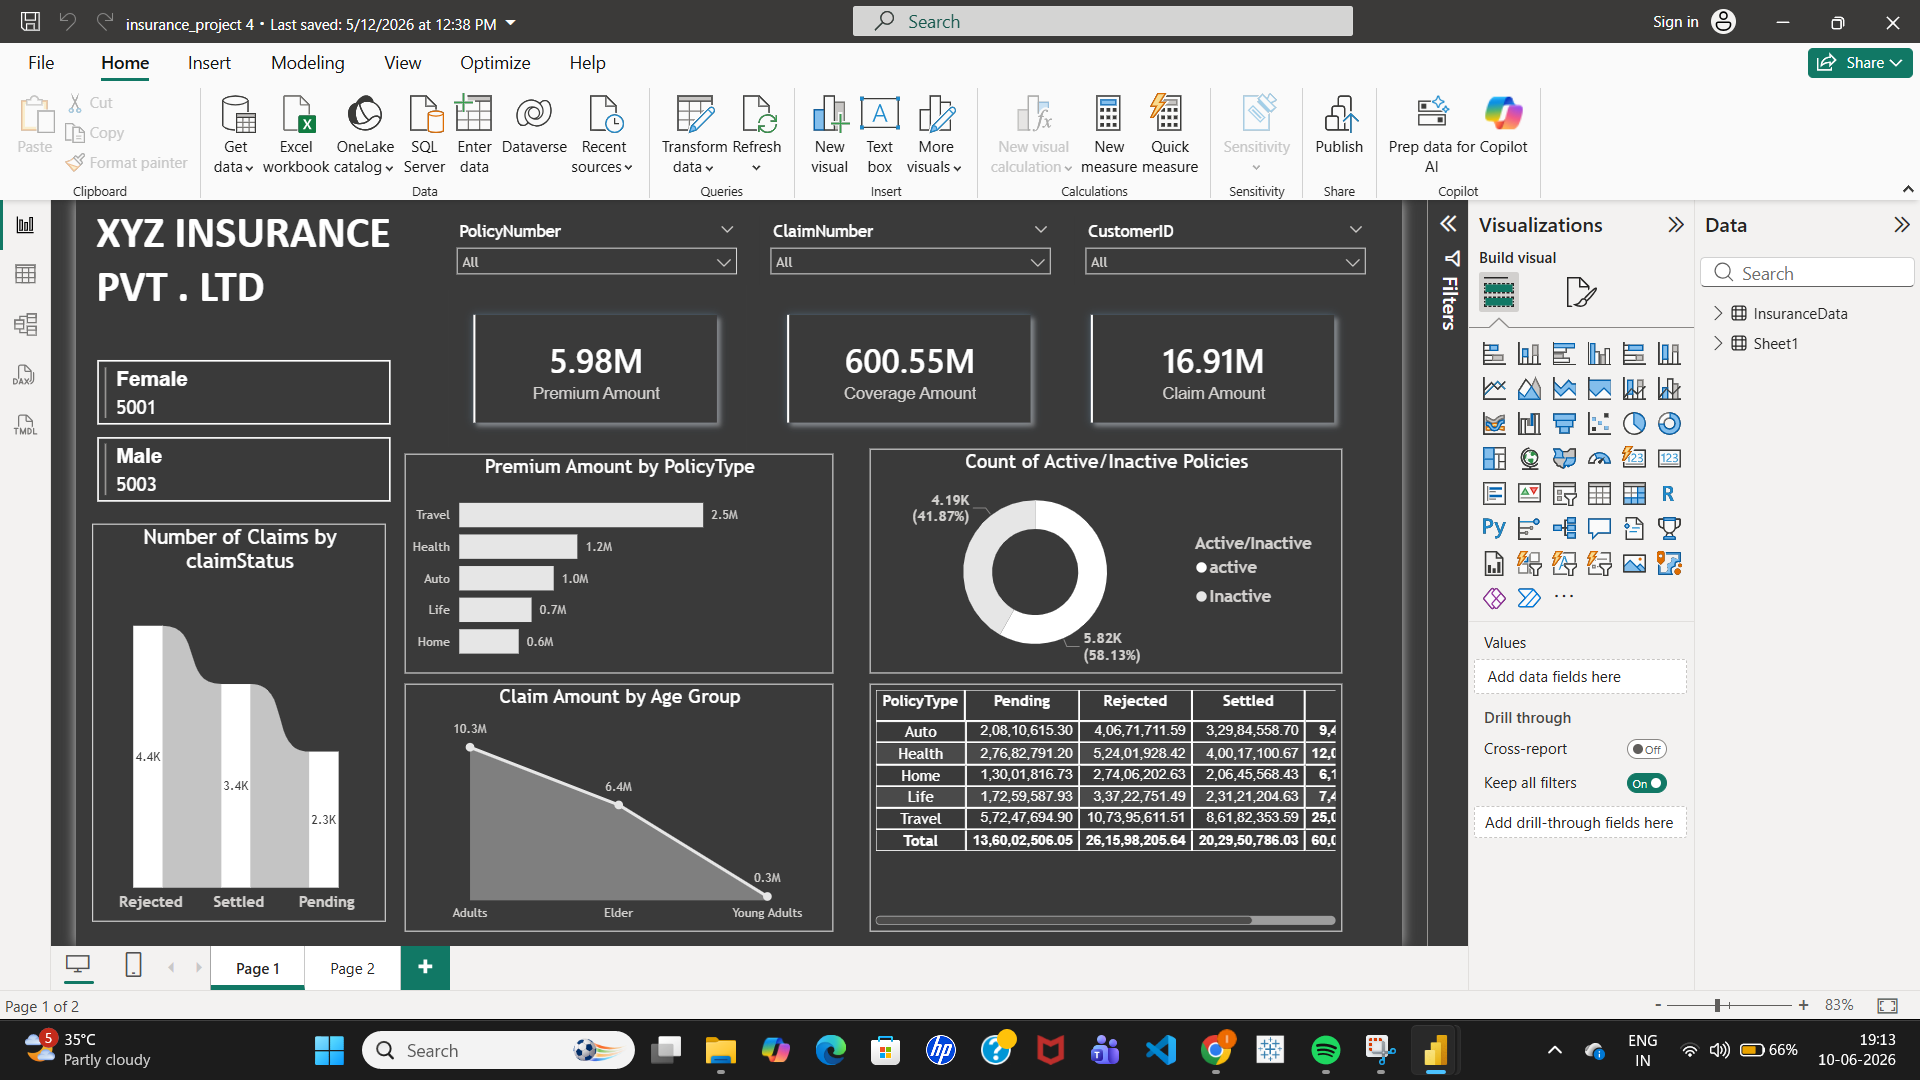

The dashboard page shown, as its layout file describes it:
{"tool":"powerbi","page":{"name":"Page 1","canvas":[1280,720],"ordinal":0},"visuals":[{"type":"slicer","fields":{"Values":["InsuranceData.PolicyNumber"]},"box":[357.1,15.7,290.8,84.5],"z":0},{"type":"slicer","fields":{"Values":["InsuranceData.ClaimNumber"]},"box":[659.9,15.7,290.8,84.5],"z":1000},{"type":"slicer","fields":{"Values":["InsuranceData.CustomerID"]},"box":[963.9,15.7,290.8,84.5],"z":2000},{"type":"textbox","box":[14.5,0,294.4,162.9],"z":3000},{"type":"cardVisual","fields":{"Data":["Sum(InsuranceData.PremiumAmount)"]},"box":[354.7,82,293.2,162.9],"z":4000},{"type":"cardVisual","fields":{"Data":["Sum(InsuranceData.CoverageAmount)"]},"box":[657.5,82,293.2,162.9],"z":5000},{"type":"cardVisual","fields":{"Data":["Sum(InsuranceData.ClaimAmount)"]},"box":[950.7,82,293.2,162.9],"z":6000},{"type":"multiRowCard","fields":{"Values":["InsuranceData.Gender","CountNonNull(InsuranceData.Gender)"]},"box":[15.7,149.6,293.2,162.9],"z":7000},{"type":"ribbonChart","title":"Number of Claims by claimStatus ","fields":{"Category":["InsuranceData.ClaimStatus"],"Y":["CountNonNull(InsuranceData.ClaimStatus)"]},"box":[15.7,312.5,283.5,383.6],"z":8000},{"type":"barChart","title":" Premium Amount by PolicyType","fields":{"Category":["InsuranceData.PolicyType"],"Y":["Sum(InsuranceData.PremiumAmount)"]},"box":[317.3,244.9,413.8,212.3],"z":9000},{"type":"lineChart","title":"Claim Amount by Age Group","fields":{"Category":["InsuranceData.Age Group"],"Y":["Sum(InsuranceData.ClaimAmount)"]},"box":[317.3,466.9,413.8,238.9],"z":10000},{"type":"donutChart","title":"Count of Active/Inactive Policies","fields":{"Category":["InsuranceData.Active/Inactive"],"Y":["CountNonNull(InsuranceData.Active/Inactive)"]},"box":[766.1,240.1,456,217.2],"z":11000},{"type":"pivotTable","fields":{"Values":["Sum(InsuranceData.CoverageAmount)"],"Rows":["InsuranceData.PolicyType"],"Columns":["InsuranceData.ClaimStatus"]},"box":[766.1,466.9,456,238.9],"z":12000}]}

Visuals, with their boxes on the page's 1280x720 design canvas (x1, y1, x2, y2). These are canvas units, not pixel positions in the 1920x1080 screenshot, which may show the page scaled, cropped or inside an application window:
slicer - InsuranceData.PolicyNumber: (357,16,648,100)
slicer - InsuranceData.ClaimNumber: (660,16,951,100)
slicer - InsuranceData.CustomerID: (964,16,1255,100)
textbox: (14,0,309,163)
cardVisual - Sum(InsuranceData.PremiumAmount): (355,82,648,245)
cardVisual - Sum(InsuranceData.CoverageAmount): (658,82,951,245)
cardVisual - Sum(InsuranceData.ClaimAmount): (951,82,1244,245)
multiRowCard - InsuranceData.Gender x CountNonNull(InsuranceData.Gender): (16,150,309,312)
"Number of Claims by claimStatus " ribbonChart: (16,312,299,696)
" Premium Amount by PolicyType" barChart: (317,245,731,457)
"Claim Amount by Age Group" lineChart: (317,467,731,706)
"Count of Active/Inactive Policies" donutChart: (766,240,1222,457)
pivotTable - Sum(InsuranceData.CoverageAmount) x InsuranceData.PolicyType: (766,467,1222,706)
